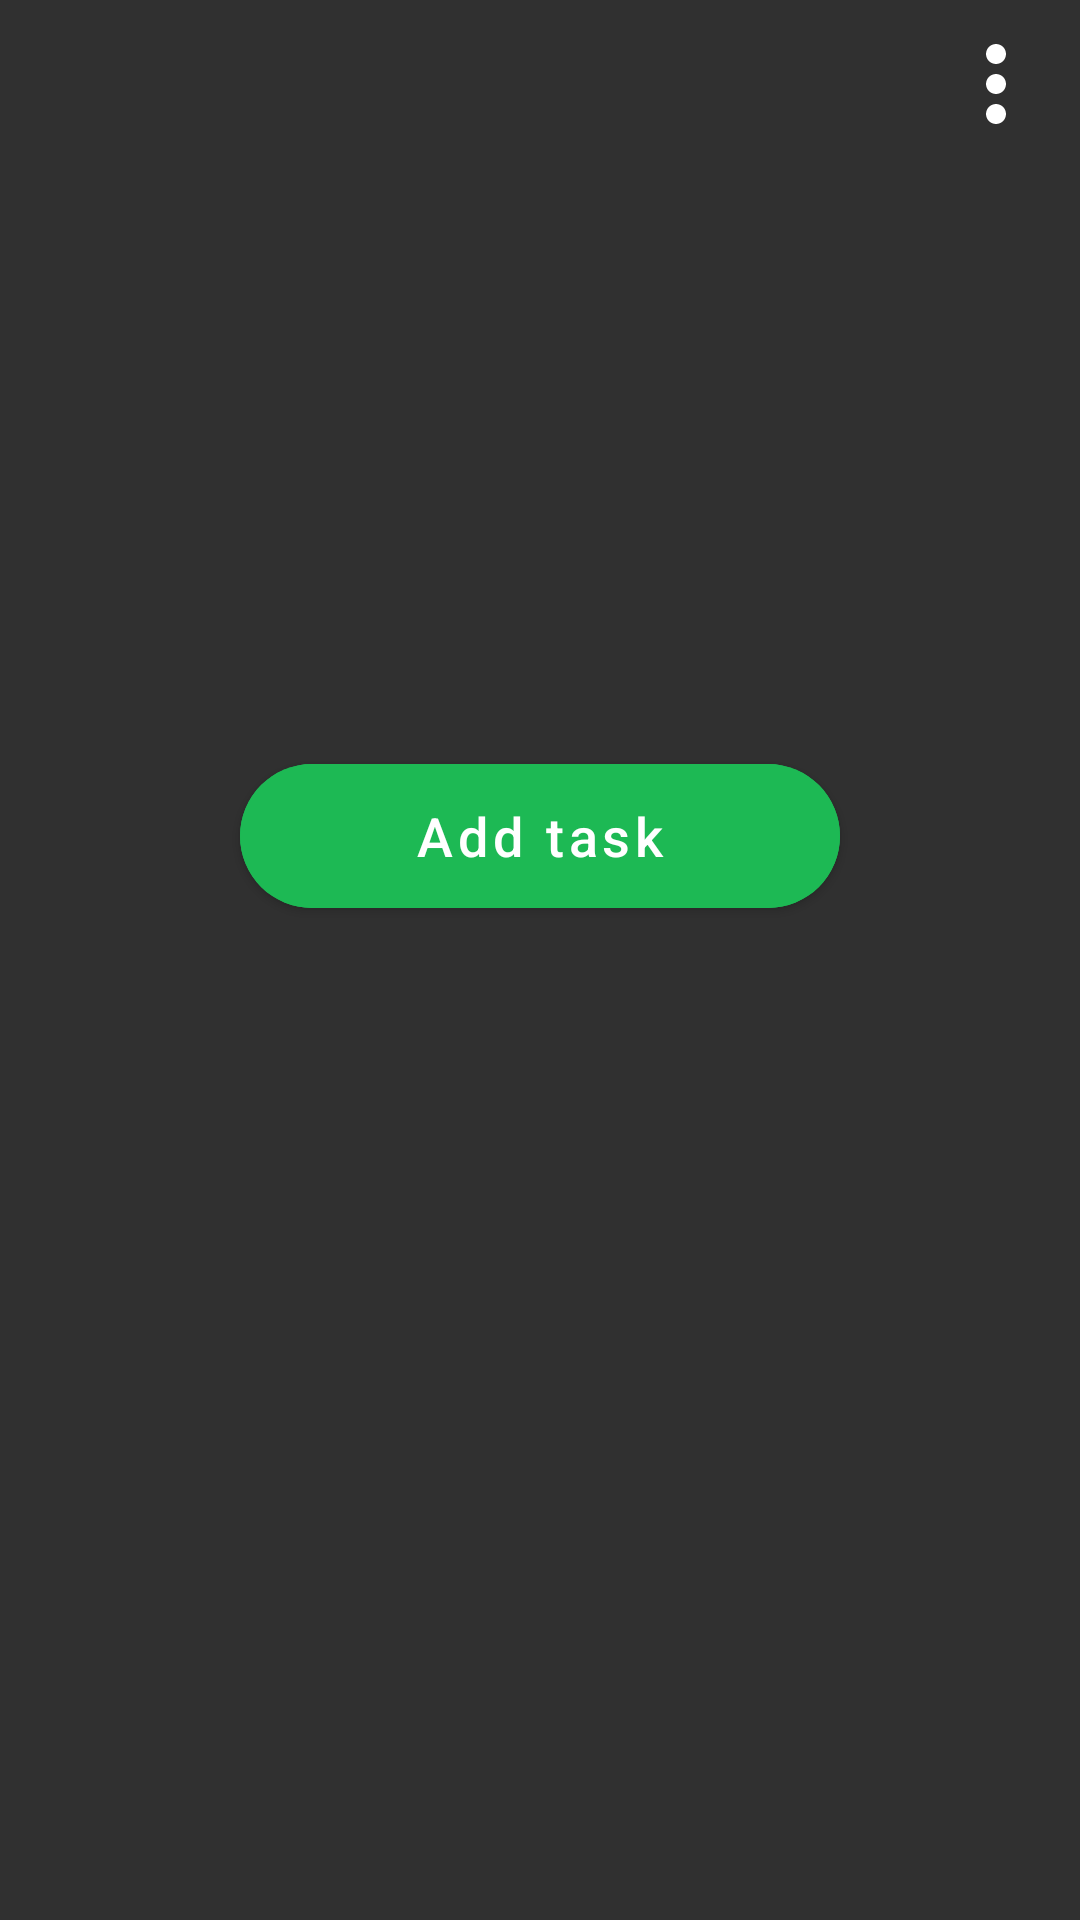

Locate icon controls on the screen. Image size 1080 x 1920, boxes as (x1, y1, x2, y2).
more vert: (986, 44, 1006, 124)
